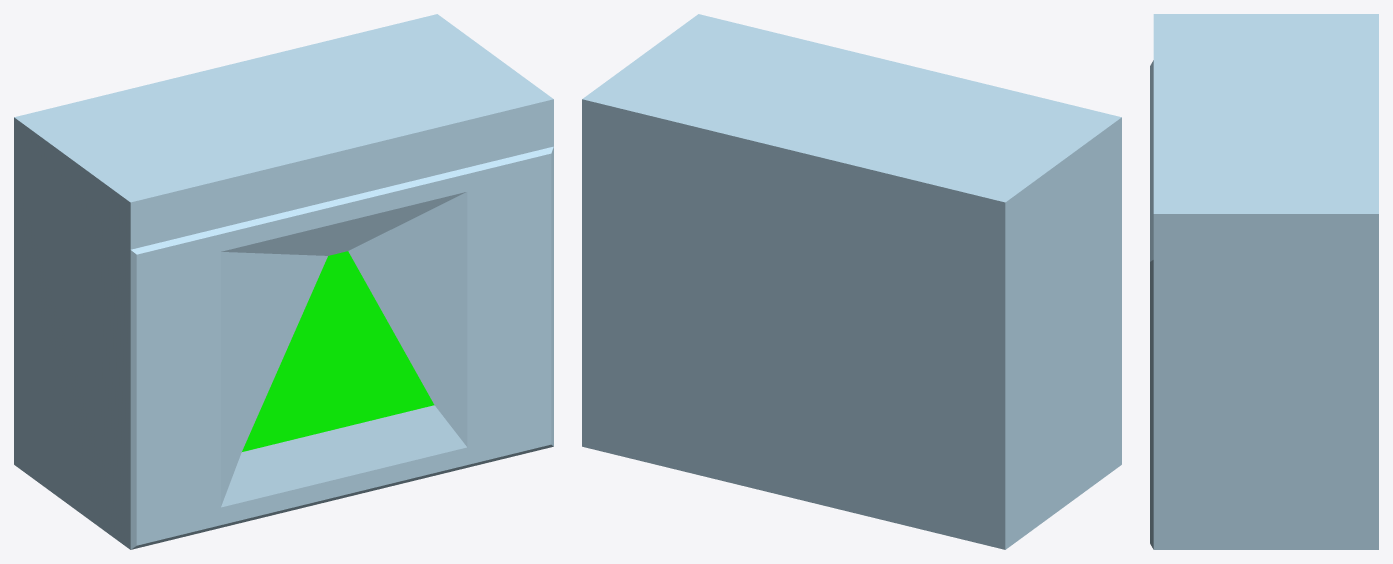
Rendered from FirstAidKit.fbx.
3 renders of one model, left to right at view 1: azimuth 30°, elevation 25°; view 2: azimuth 150°, elevation 25°; view 3: azimuth 270°, elevation 25°, orthographic. The views are drawn at different scales.
Parts seen in each view (by area): view 1: FirstAidKit; view 2: FirstAidKit; view 3: FirstAidKit.
Boxes of the visible parts, left/top/right/bottom form: FirstAidKit: left=14, top=14, right=553, bottom=549; FirstAidKit: left=582, top=14, right=1121, bottom=549; FirstAidKit: left=1150, top=14, right=1378, bottom=549.
Size of the model in its own units: 88.16 by 69.15 by 42.68.
